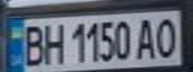0: (115, 17, 133, 61)
1: (66, 19, 87, 64), (84, 19, 100, 63)
5: (97, 18, 118, 62)
A: (133, 15, 160, 60)
B: (18, 21, 48, 68)
H: (39, 20, 66, 65)
O: (151, 13, 181, 60)
